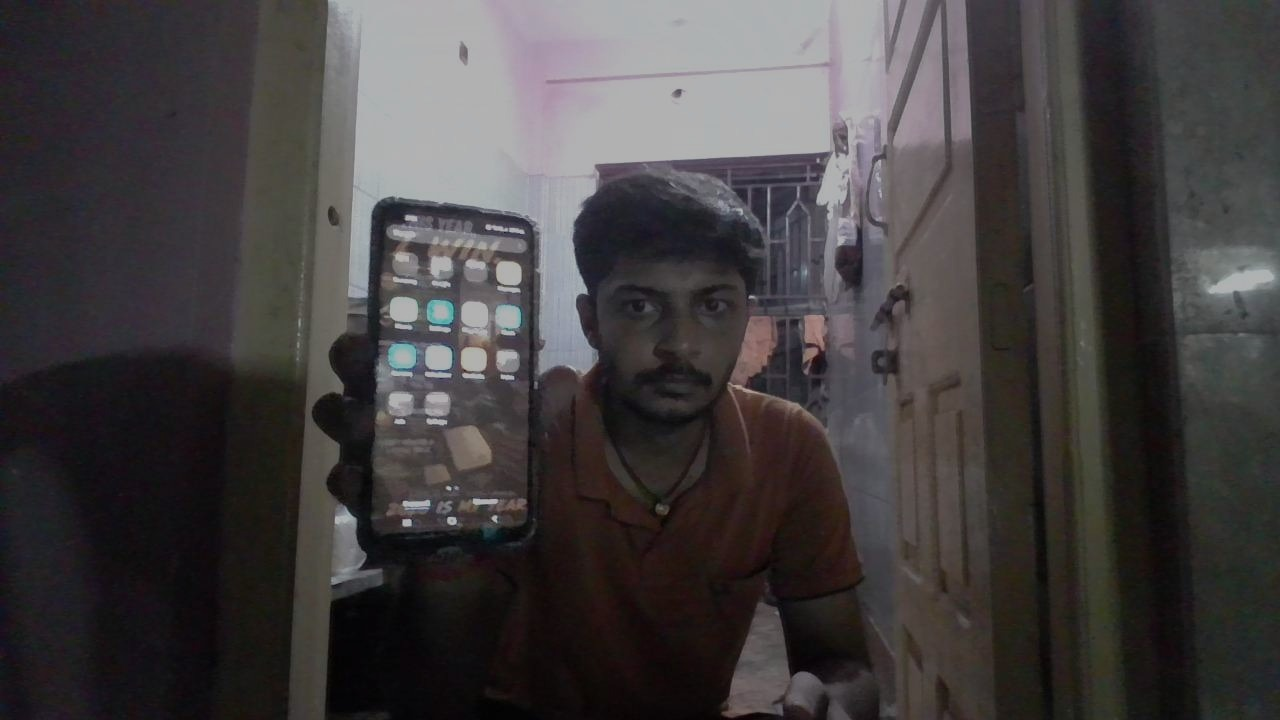red_box: (676, 398, 860, 586), (554, 442, 659, 531)
